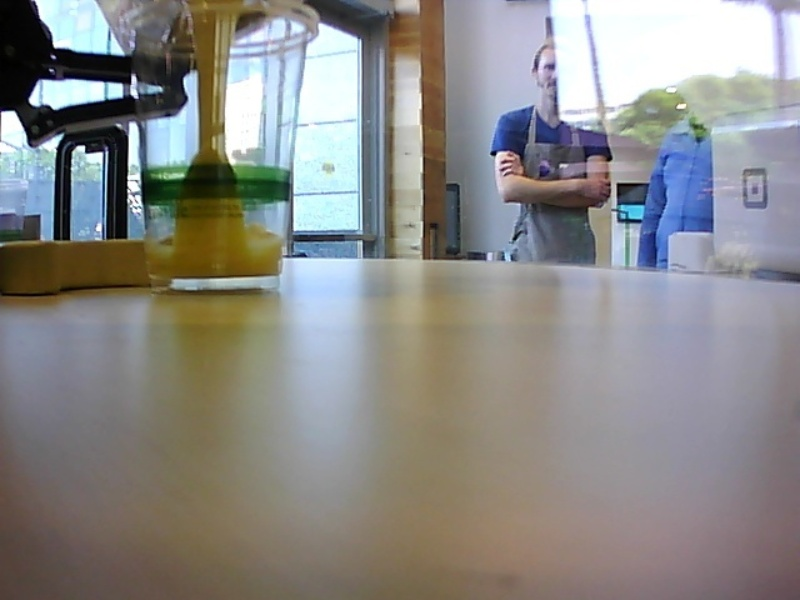cup: (123, 1, 321, 297)
limit: (143, 216, 286, 256)
